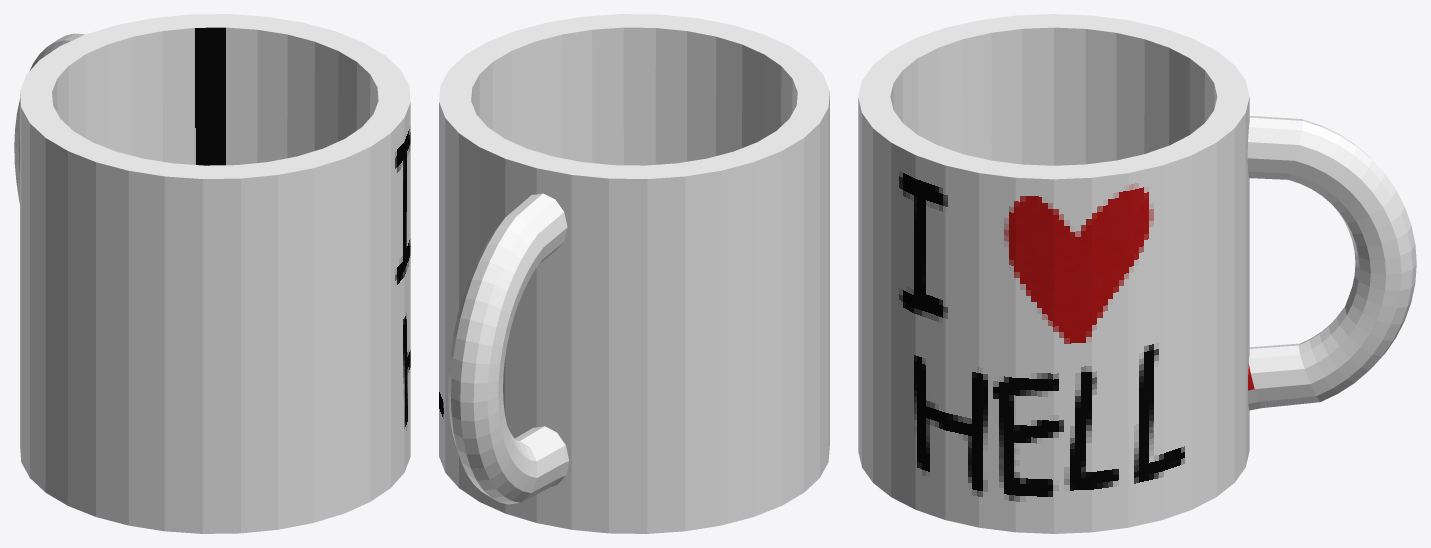
Rendered from MUG.gltf.
3 renders of one model, left to right at view 1: azimuth 30°, elevation 25°; view 2: azimuth 150°, elevation 25°; view 3: azimuth 270°, elevation 25°, orthographic.
Parts seen in each view (by area): view 1: Mug; view 2: Mug; view 3: Mug.
Part boxes in pixels (x1,y1,x2,y2): Mug: (14,14,410,533); Mug: (439,14,829,533); Mug: (858,14,1416,533).
Bounding box in the file's own units: 0.9236 × 0.9236 × 1.32.
